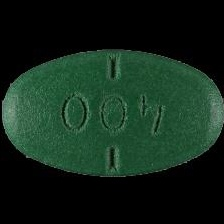42291-218: (0, 0, 224, 224)
